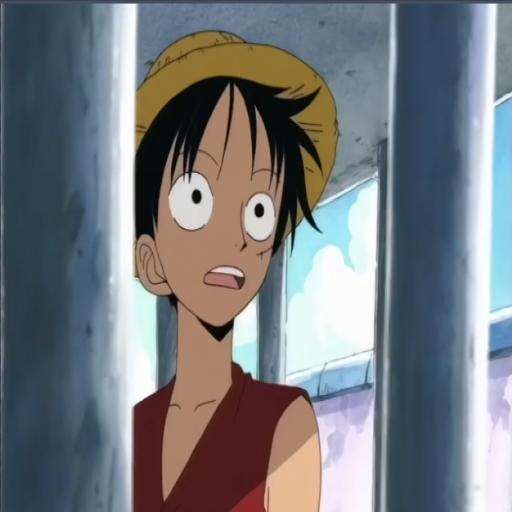Luffy: (121, 45, 352, 512)
